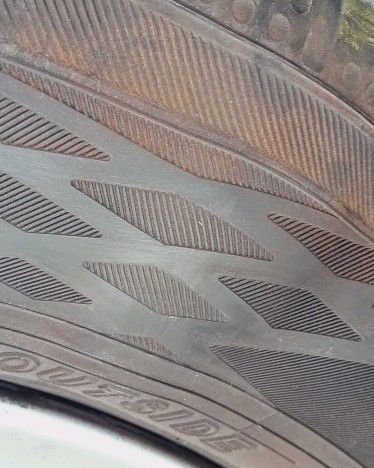CBU: (178, 174, 334, 359)
